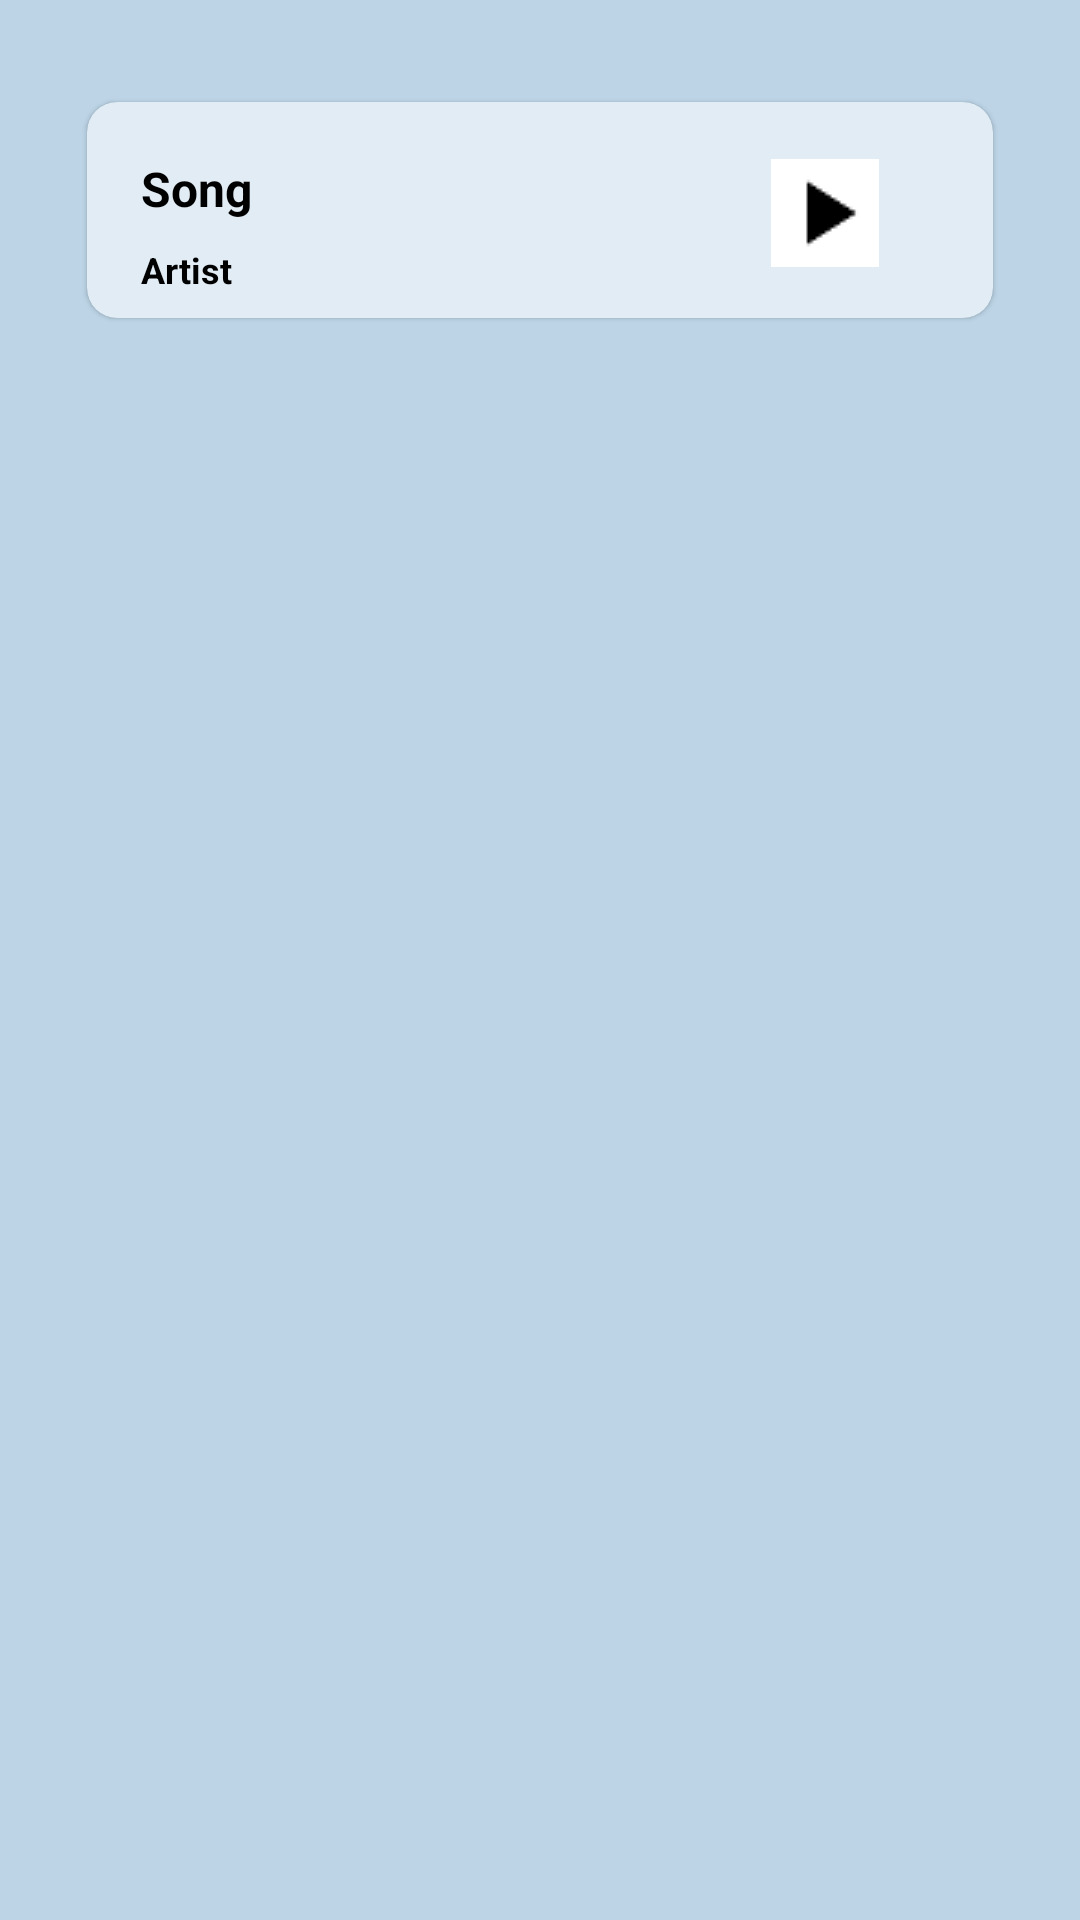

Where icons sit on this 1080px×1920px app screen, as (x1, y1, x2, y2):
play arrow: (771, 159, 879, 267)
